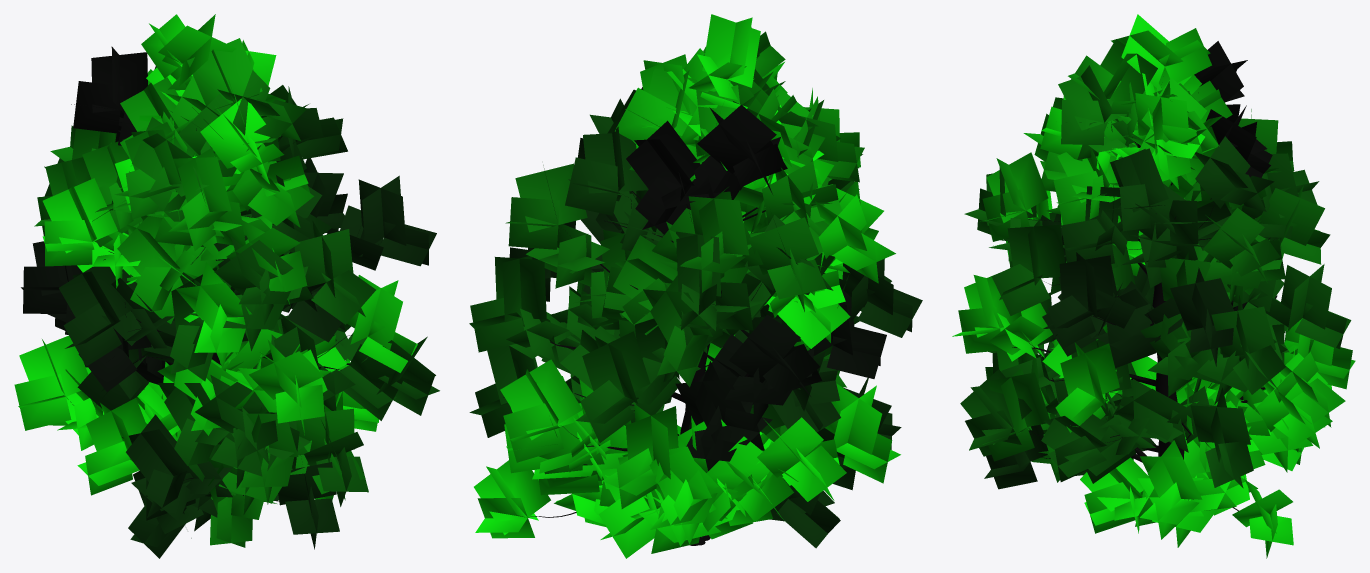
File: Type_1_1.fbx
3 views of the same model, side by side, from view 1: azimuth 30°, elevation 25°; view 2: azimuth 150°, elevation 25°; view 3: azimuth 270°, elevation 25° (orthographic). The views are drawn at different scales.
Parts seen in each view (by area): view 1: Type_1_1; view 2: Type_1_1; view 3: Type_1_1.
Boxes of the visible parts, x1,y1,x2,y2 form: Type_1_1: (14,14,439,558); Type_1_1: (469,14,922,558); Type_1_1: (952,14,1355,558).
Size of the model in its own units: 358 by 486 by 373.
